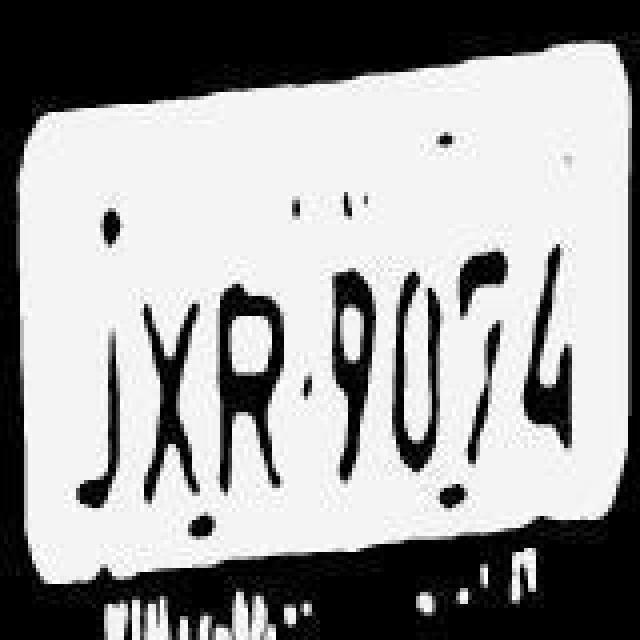4: (520, 232, 584, 480)
7: (450, 236, 510, 476)
9: (320, 242, 384, 494)
J: (68, 292, 124, 516)
O: (384, 250, 448, 486)
R: (210, 266, 286, 502)
X: (132, 280, 204, 504)
